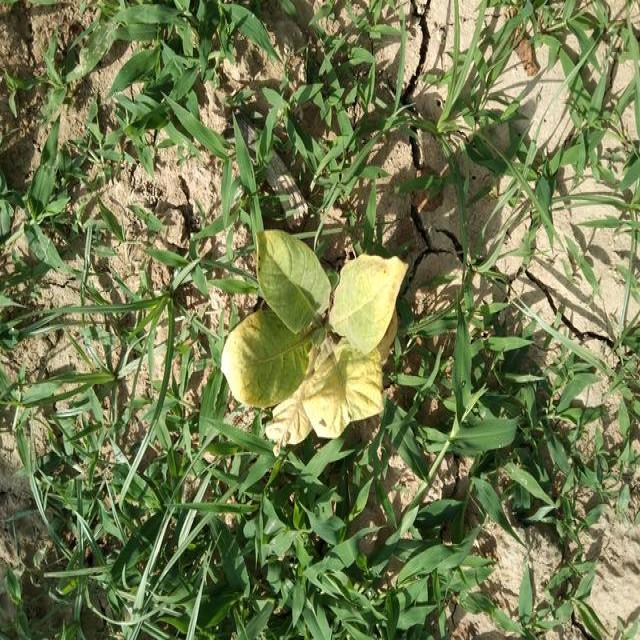crop: (222, 222, 414, 446)
